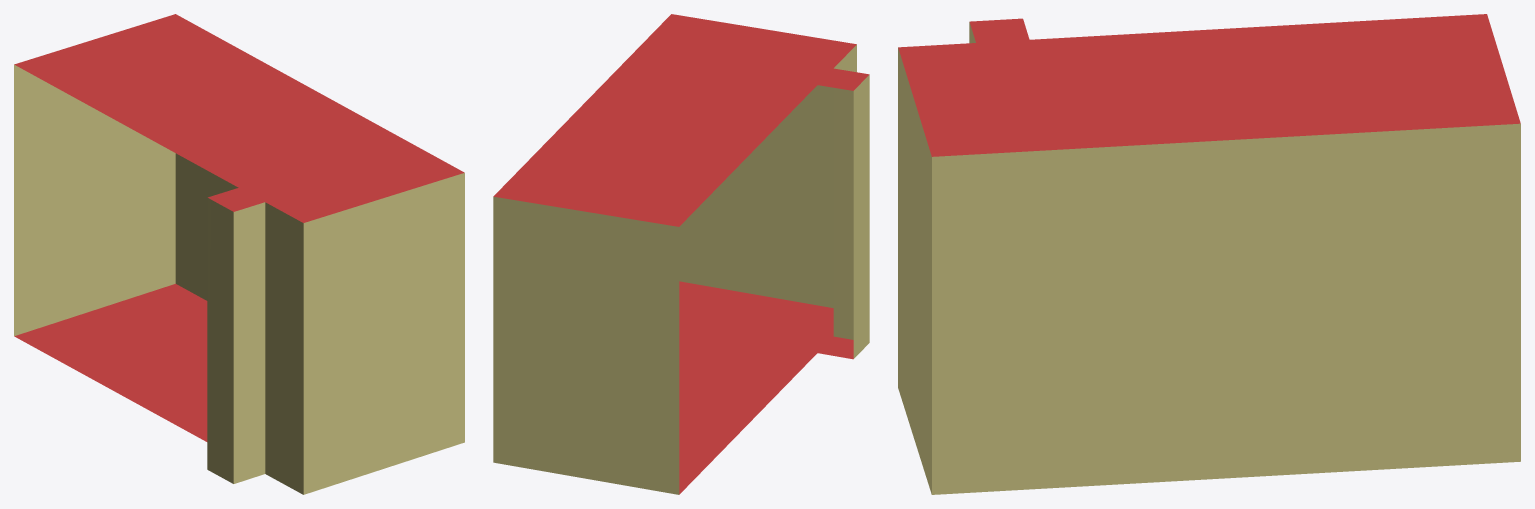
The picture shows the model from 3 angles, left to right: view 1: azimuth 30°, elevation 25°; view 2: azimuth 150°, elevation 25°; view 3: azimuth 270°, elevation 25°; orthographic projection. The views are drawn at different scales.
Size of the model in its own units: 4.61 by 8.64 by 5.23.
